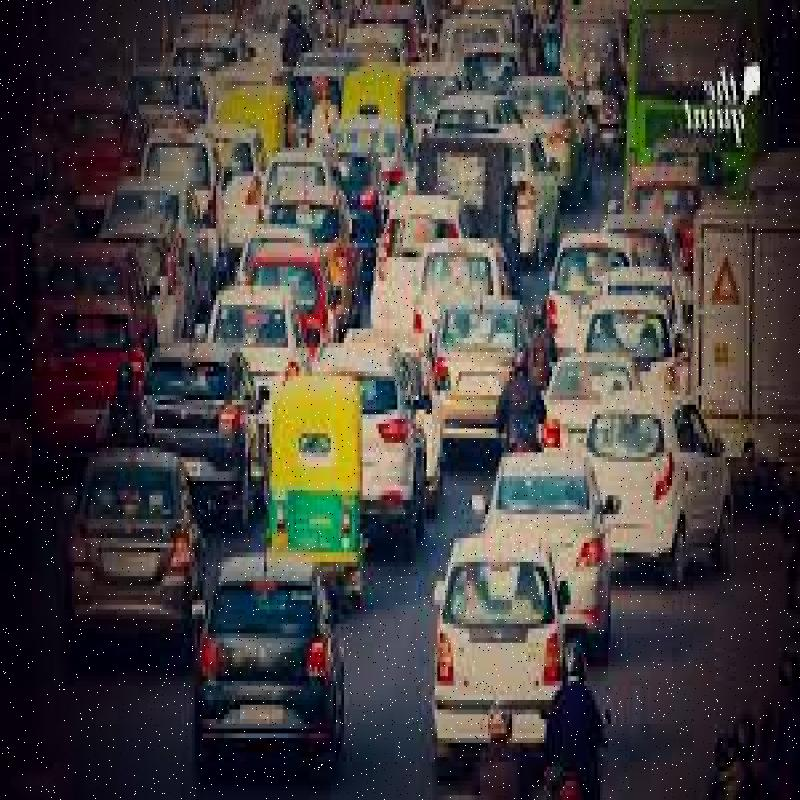auto: (251, 387, 371, 565)
car: (181, 560, 344, 750), (423, 543, 570, 736), (470, 460, 614, 634), (586, 388, 745, 543), (73, 458, 195, 633), (146, 332, 250, 478), (439, 298, 542, 431), (363, 200, 468, 320), (329, 369, 416, 513), (215, 278, 308, 385), (530, 226, 615, 340), (582, 288, 682, 372)
